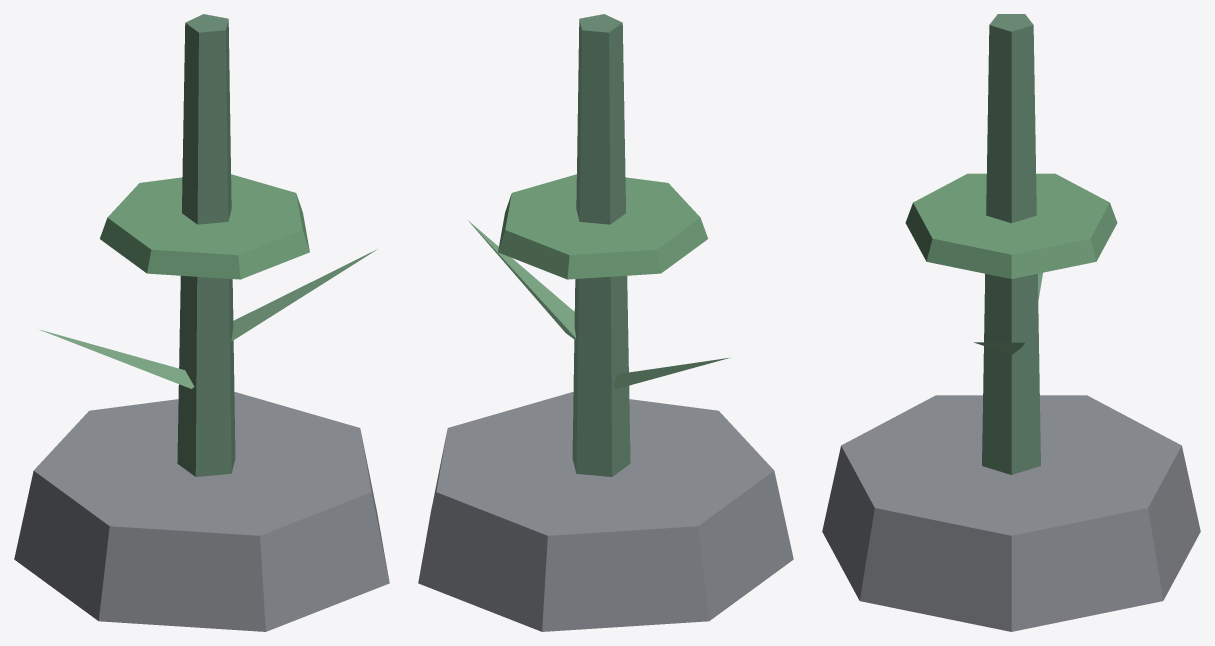
File: prop_lily_post.glb
3 views of the same model, side by side, from view 1: azimuth 30°, elevation 25°; view 2: azimuth 150°, elevation 25°; view 3: azimuth 270°, elevation 25° (orthographic).
Parts seen in each view (by area): view 1: body; view 2: body; view 3: body.
Part boxes in pixels (<box>): body: <box>14,14,389,631</box>; body: <box>418,14,793,631</box>; body: <box>822,14,1200,631</box>.
Size of the model in its own units: 0.9505 by 1.5 by 0.9749.
